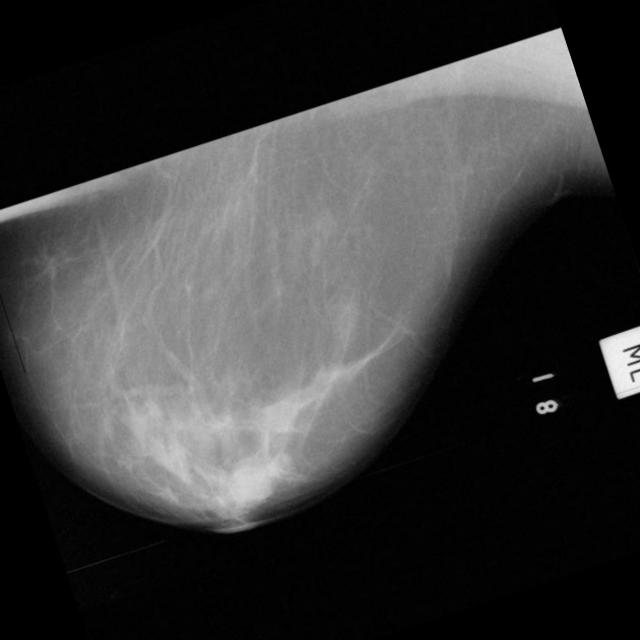SPIC: (30, 247, 72, 288)
